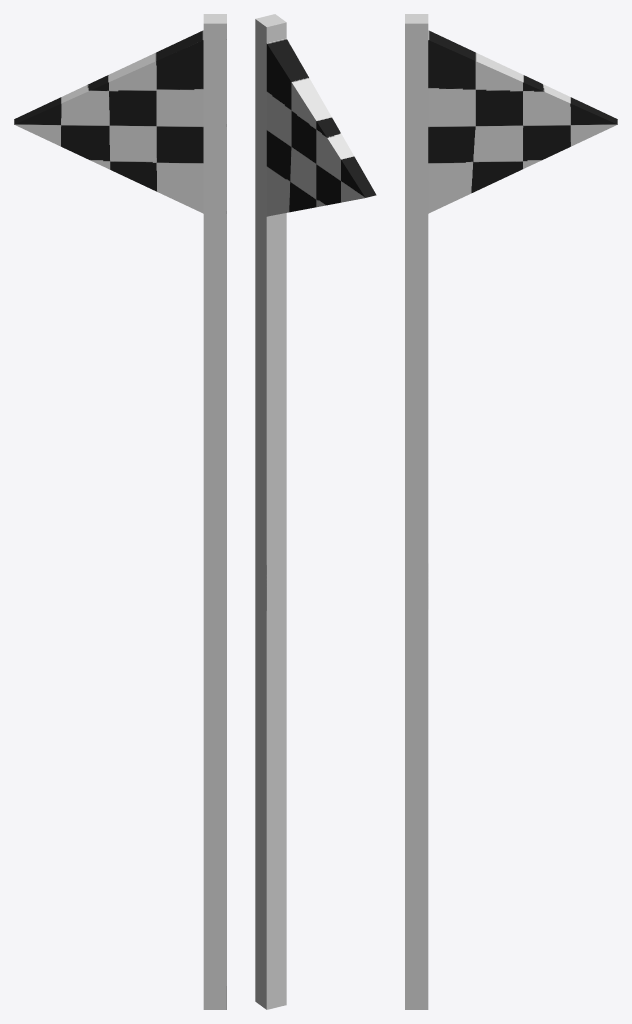
Rendered from finishFlag.obj.
3 views of the same model, side by side, from view 1: azimuth 90°, elevation 25°; view 2: azimuth 210°, elevation 25°; view 3: azimuth 270°, elevation 25° (orthographic).
Visible parts, largest first — view 1: Cube.001; view 2: Cube.001; view 3: Cube.001.
Part boxes in pixels (<box>): Cube.001: <box>14,14,226,1009</box>; Cube.001: <box>255,14,376,1009</box>; Cube.001: <box>405,14,617,1009</box>.
Bounding box in the file's own units: 0.0639 × 3 × 0.5874.
1 material, 1 textured.
